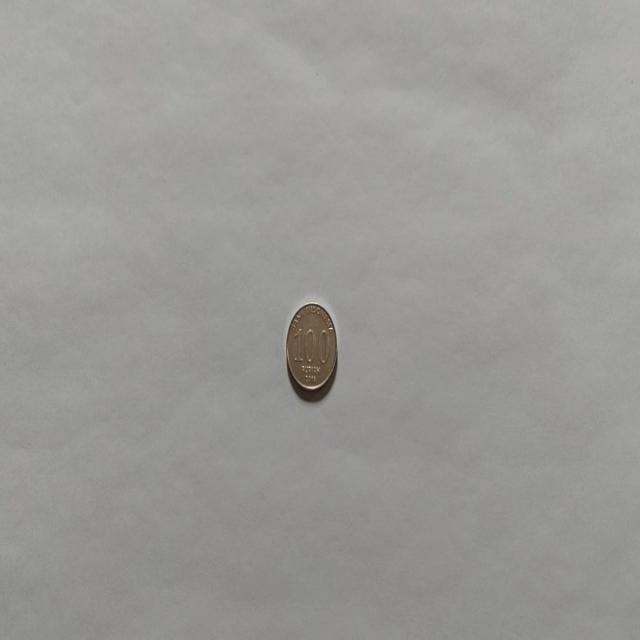seratus rupiah: (284, 300, 338, 393)
